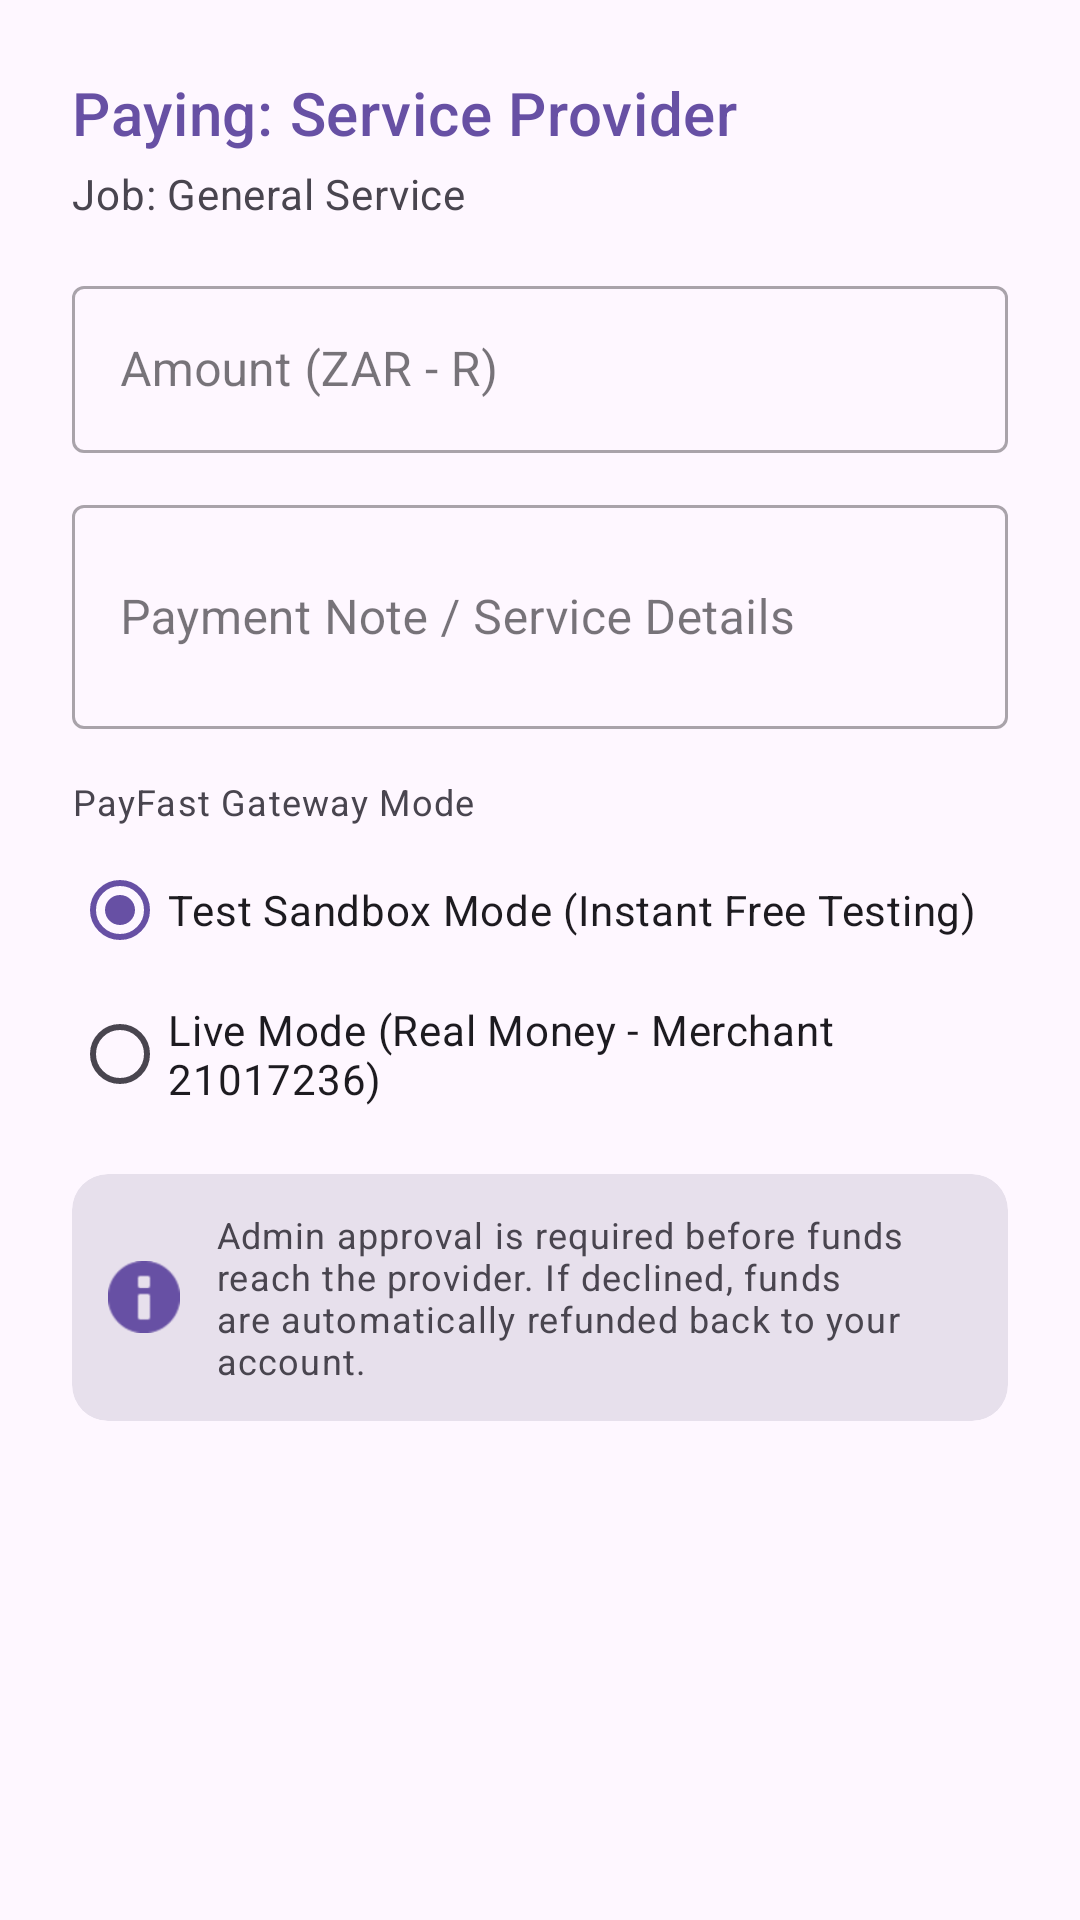

Where to tap for icons on this 1080*1920 app screen, as (x=x, y=y):
info: (x=144, y=1297)
